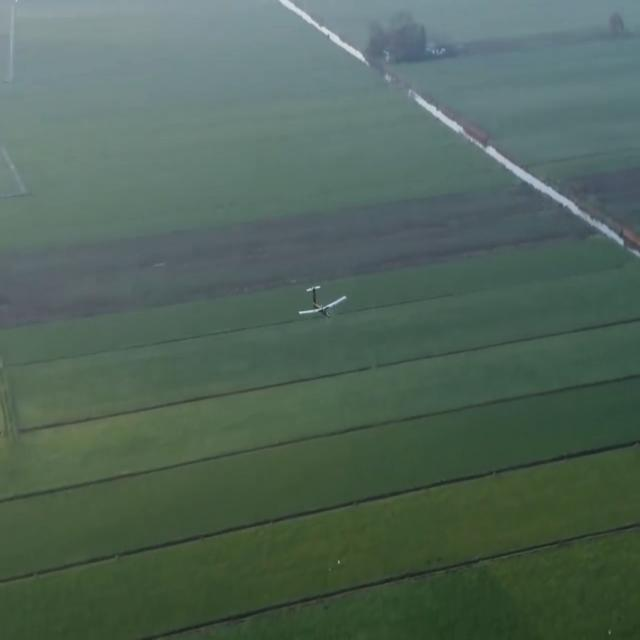iha: (298, 277, 346, 324)
